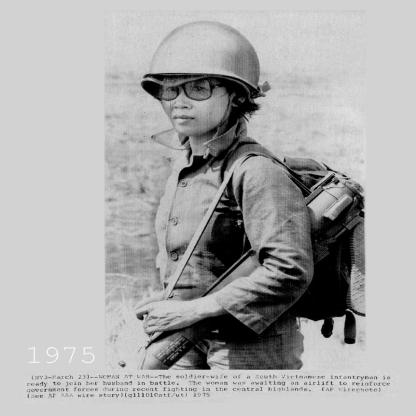Helmet: (147, 24, 265, 138)
